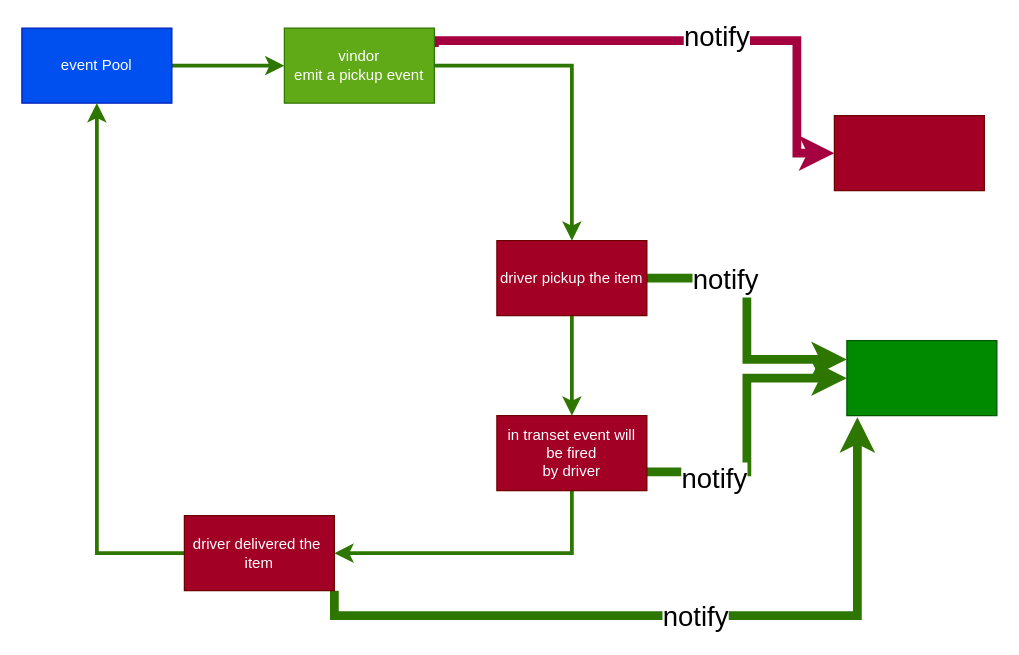
This 1019x655 diagram has some shape labels left out. Here are the shapes that lost their labels. From the top down, the box of each, then its label:
(833, 114, 984, 191): driver
(846, 339, 997, 416): vindor
